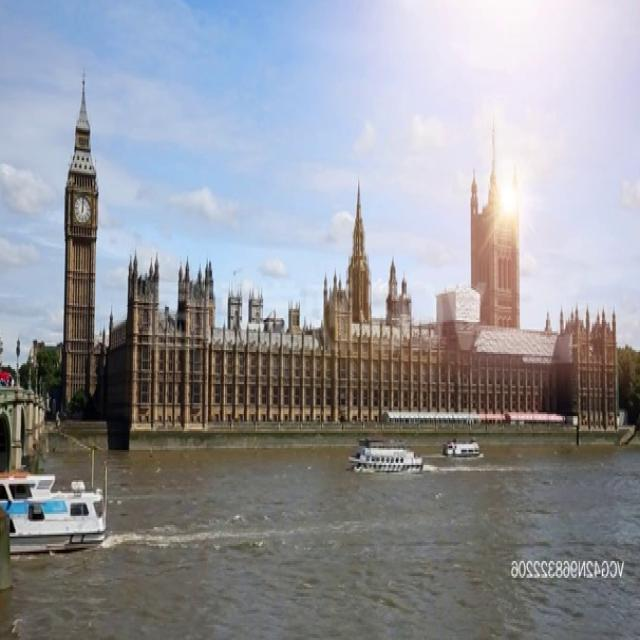passenger ship: (0, 442, 115, 556), (353, 429, 427, 475), (444, 431, 484, 459)
